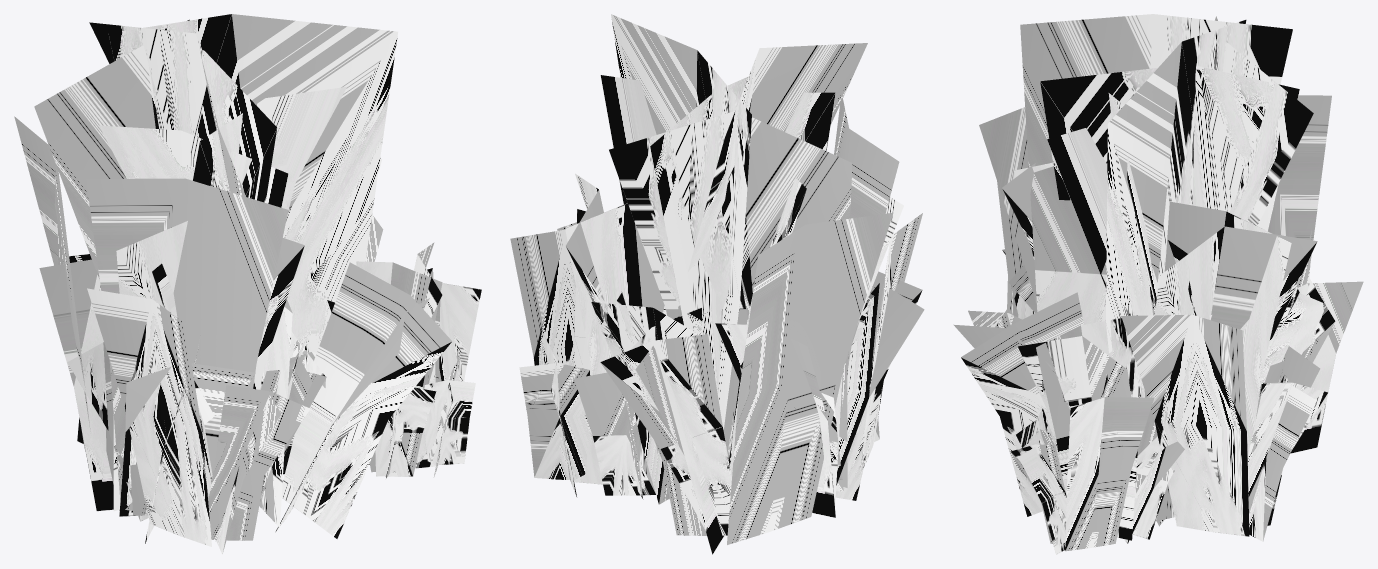
The model's file is spmGrassFrond1_LOD0 (merge).fbx.
3 renders of one model, left to right at view 1: azimuth 30°, elevation 25°; view 2: azimuth 150°, elevation 25°; view 3: azimuth 270°, elevation 25°, orthographic. The views are drawn at different scales.
Visible parts, largest first — view 1: spmGrassFrond1_LOD0; view 2: spmGrassFrond1_LOD0; view 3: spmGrassFrond1_LOD0.
Part boxes in pixels (<box>): spmGrassFrond1_LOD0: <box>14,14,481,554</box>; spmGrassFrond1_LOD0: <box>510,14,924,554</box>; spmGrassFrond1_LOD0: <box>953,14,1363,554</box>.
Size of the model in its own units: 1.28 by 1.52 by 1.21.
Materials: 1 (1 with a texture image).
